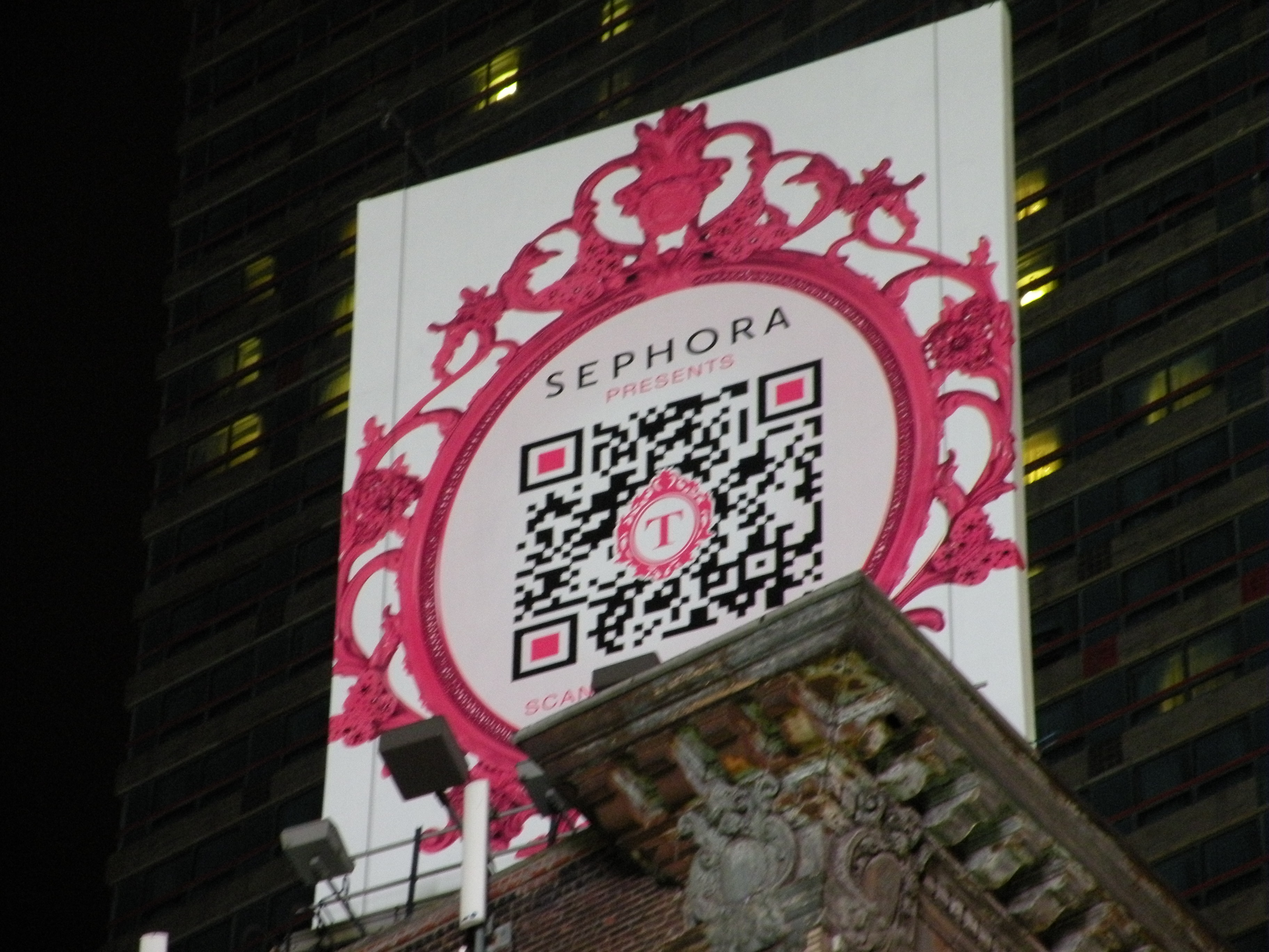QR-CODE: (511, 358, 822, 682)
